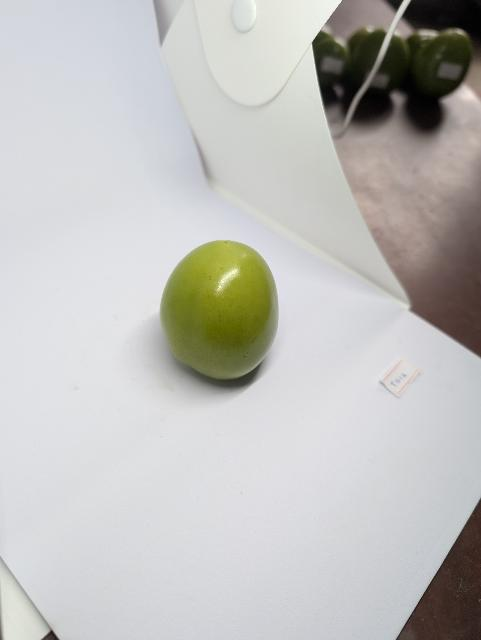green: (159, 239, 281, 381)
